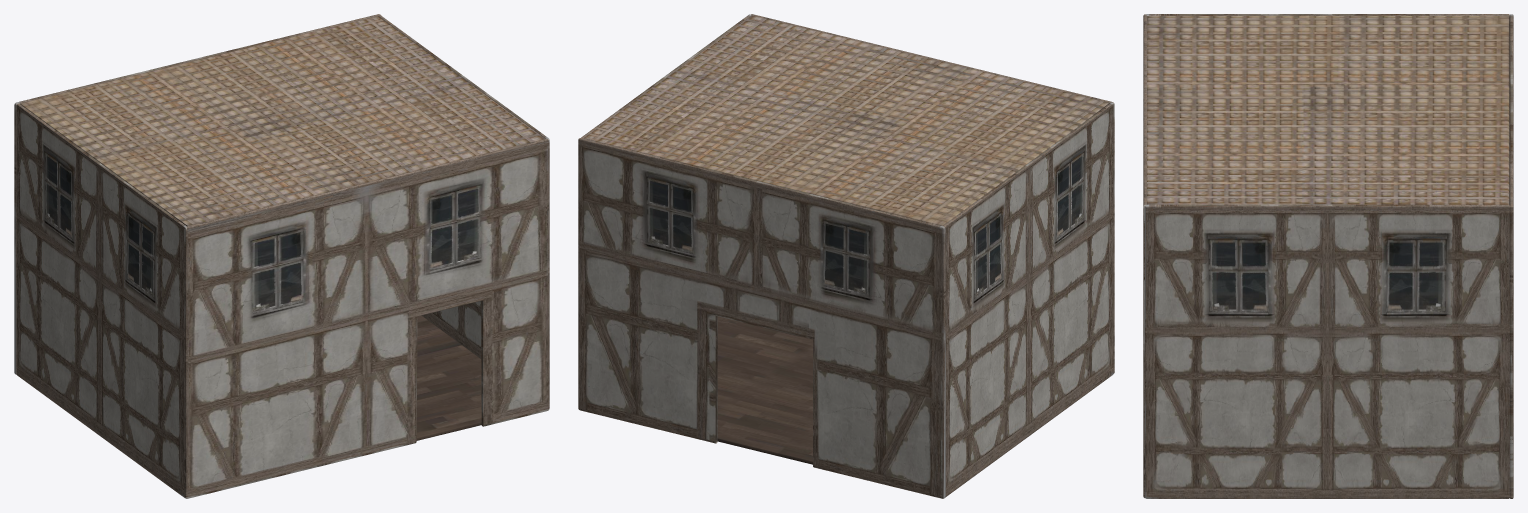
File: StageRoom.fbx
3 views of the same model, side by side, from view 1: azimuth 30°, elevation 25°; view 2: azimuth 150°, elevation 25°; view 3: azimuth 270°, elevation 25° (orthographic). The views are drawn at different scales.
Visible parts, largest first — view 1: StargeRoom_wall, StageRooom_Floor; view 2: StargeRoom_wall, StageRooom_Floor; view 3: StargeRoom_wall.
Boxes of the visible parts, x1=… form: StargeRoom_wall: x1=14, y1=14, x2=549, y2=498; StageRooom_Floor: x1=416, y1=315, x2=481, y2=440; StargeRoom_wall: x1=578, y1=14, x2=1114, y2=498; StageRooom_Floor: x1=717, y1=316, x2=812, y2=464; StargeRoom_wall: x1=1143, y1=14, x2=1513, y2=498.
Bounding box in the file's own units: 5.64 × 4 × 4.58.
Materials: 5 (5 with a texture image).
